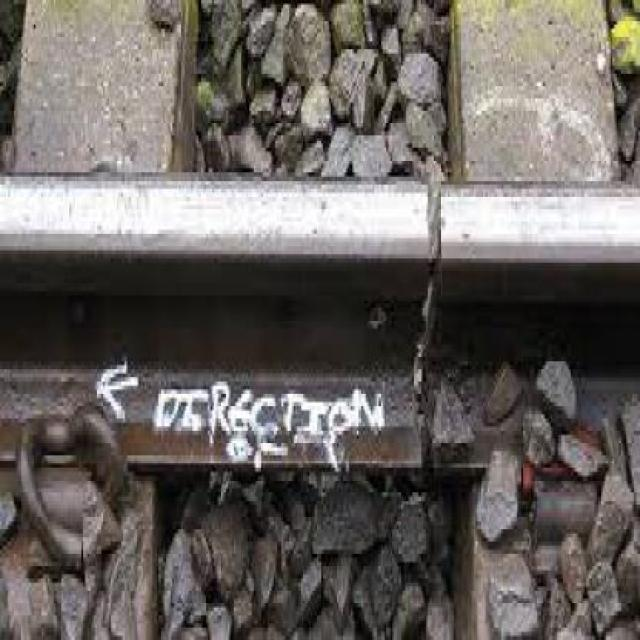defective: (113, 36, 640, 489)
